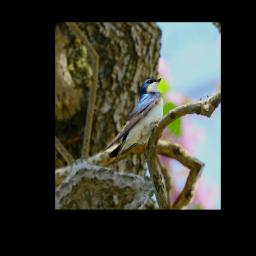Swallow: (87, 74, 178, 170)
